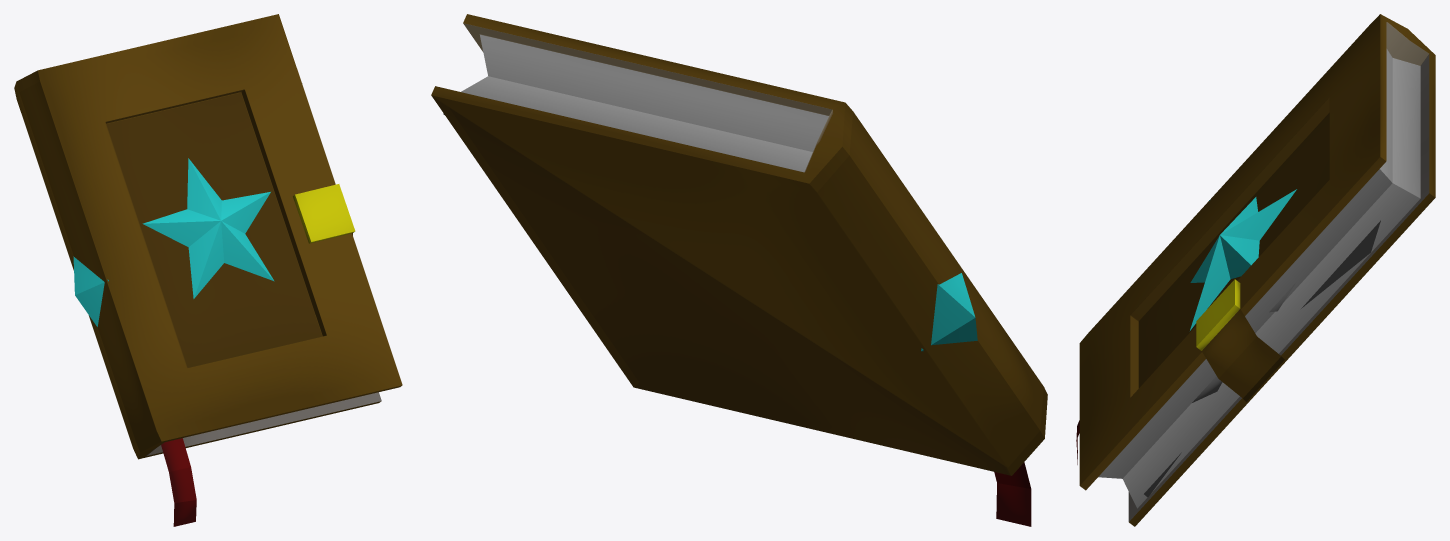
File: Book.glb
The picture shows the model from 3 angles, left to right: view 1: azimuth 30°, elevation 25°; view 2: azimuth 150°, elevation 25°; view 3: azimuth 270°, elevation 25°; orthographic projection. The views are drawn at different scales.
Parts seen in each view (by area): view 1: ibro; view 2: ibro; view 3: ibro.
Boxes of the visible parts, <box> form: ibro: <box>14,14,402,526</box>; ibro: <box>431,14,1047,526</box>; ibro: <box>1076,14,1435,526</box>.
Bounding box in the file's own units: 0.4941 × 0.6094 × 0.4559.
Materials: 1 (1 with a texture image).
